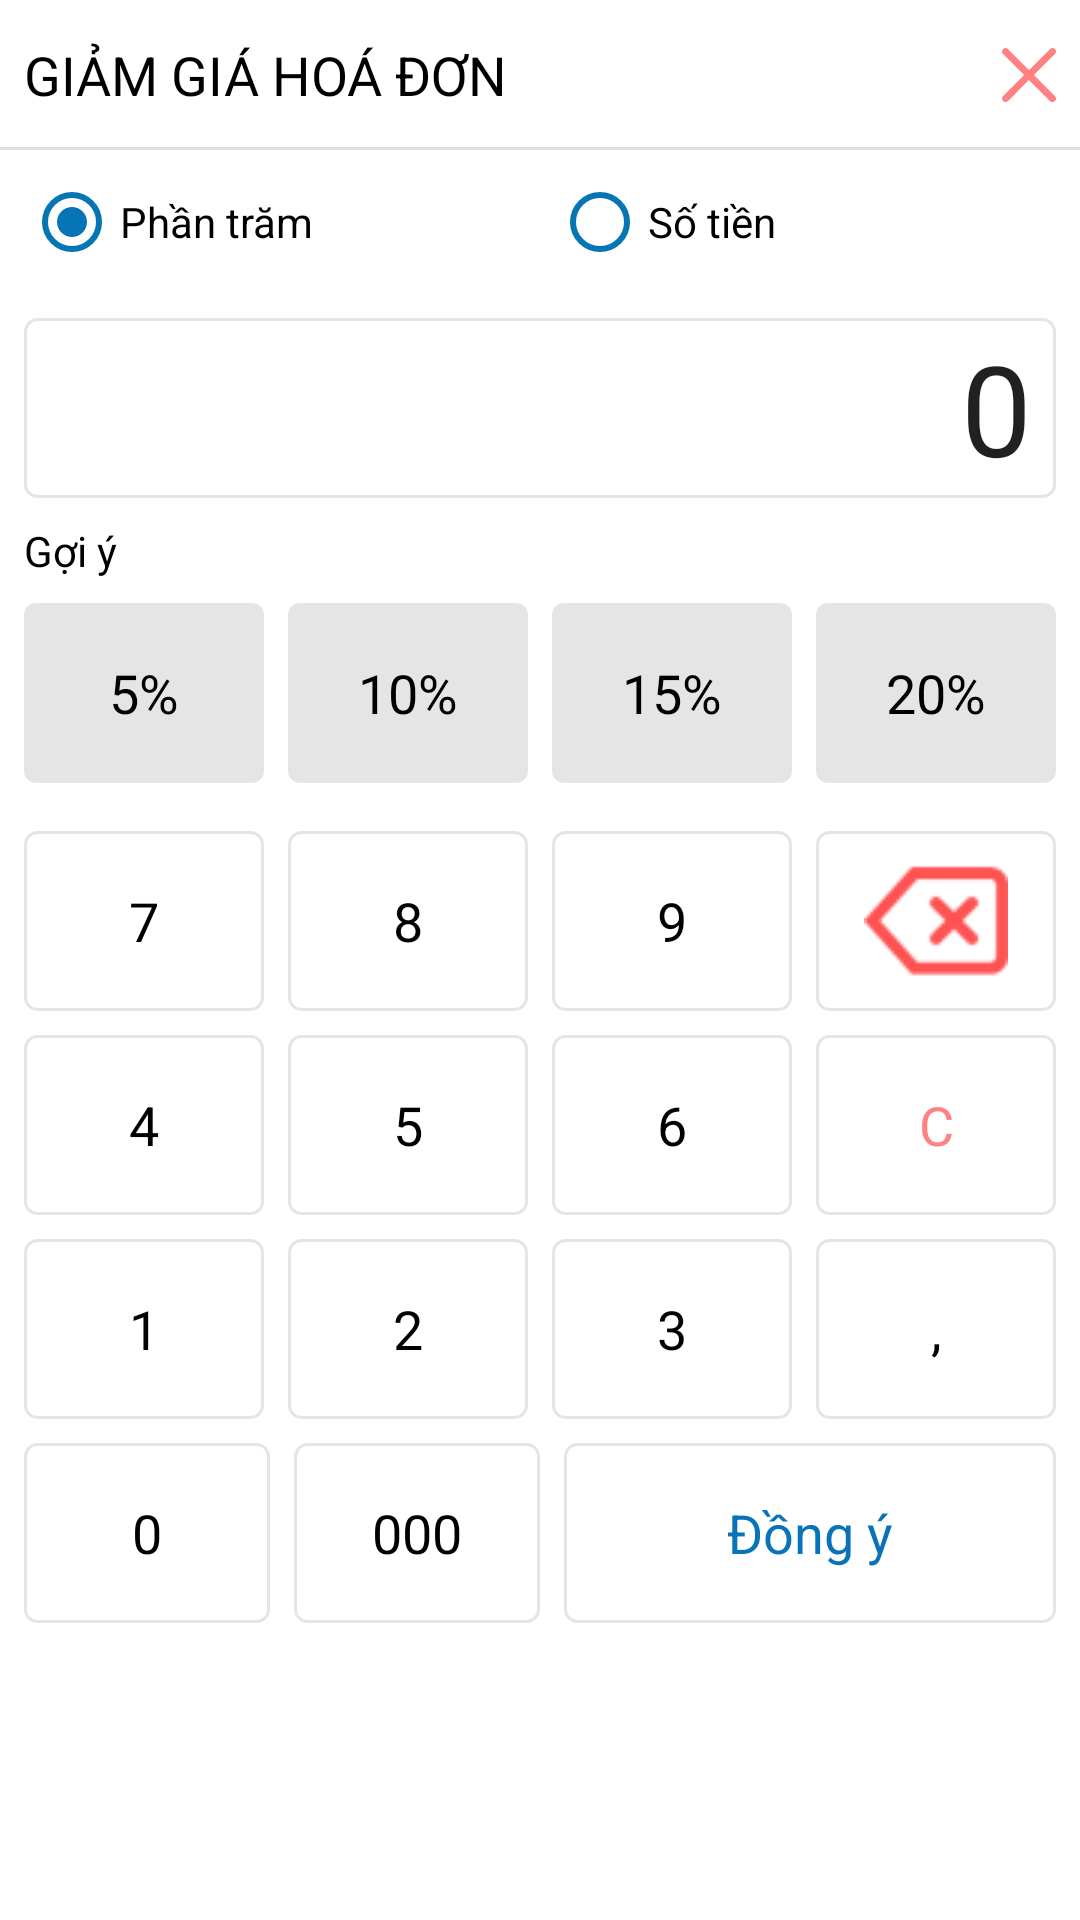

Screen size 1080px x 1920px. Icon name, then its center in pixels as point (x, y):
back keyboard: point (936, 921)
close: point (1029, 75)
